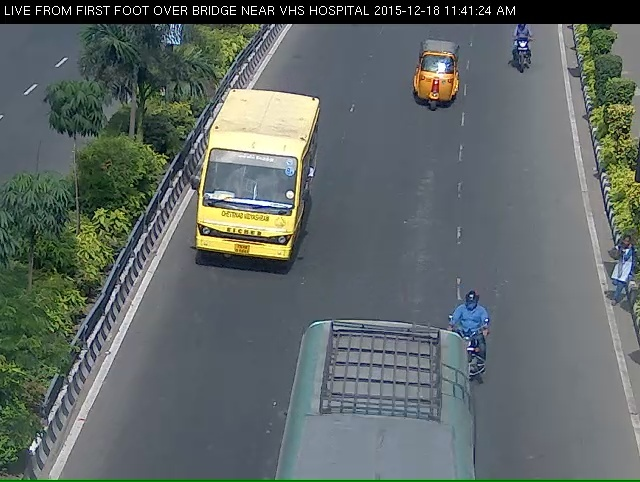Bus: (275, 341, 475, 482), (189, 104, 320, 287)
Car: (411, 45, 458, 117)
Person: (437, 307, 493, 402), (510, 28, 537, 84)
